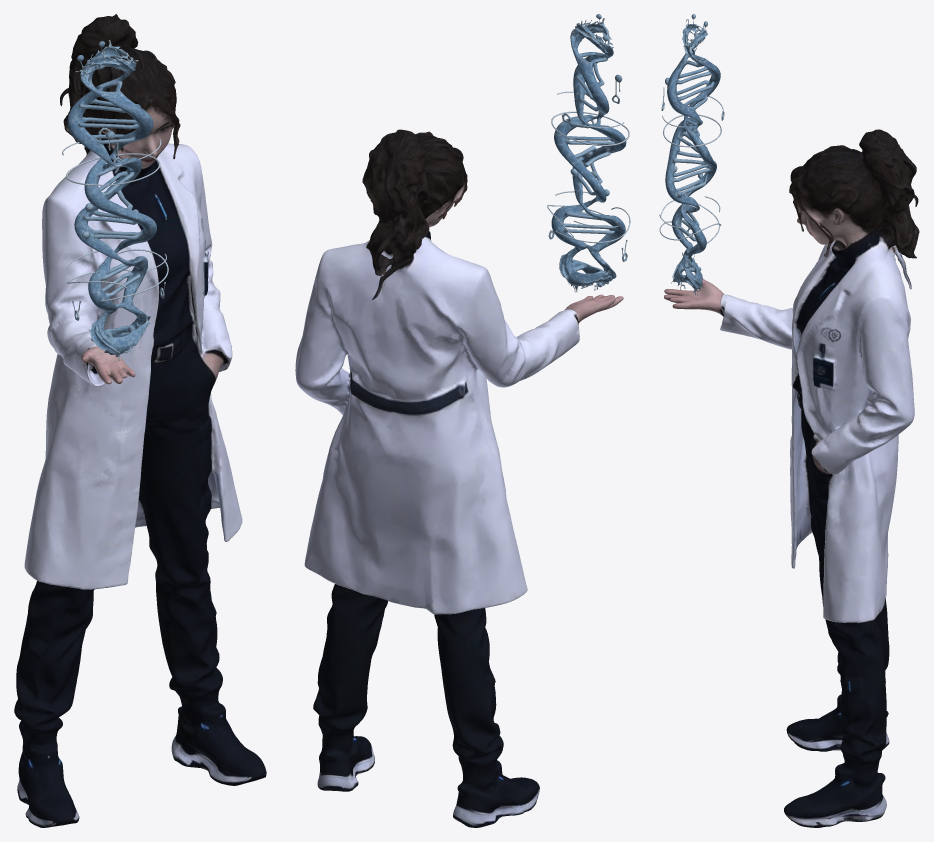
The model's file is cientifica-adn.glb.
3 renders of one model, left to right at view 1: azimuth 30°, elevation 25°; view 2: azimuth 150°, elevation 25°; view 3: azimuth 270°, elevation 25°, orthographic. The views are drawn at different scales.
Parts seen in each view (by area): view 1: Mesh_0, Mesh_0.001; view 2: Mesh_0, Mesh_0.001; view 3: Mesh_0, Mesh_0.001.
Part boxes in pixels (box(x1,y1,x2,y2)): Mesh_0: box(14, 14, 266, 827); Mesh_0.001: box(62, 40, 168, 360); Mesh_0: box(295, 129, 623, 827); Mesh_0.001: box(547, 14, 630, 292); Mesh_0: box(664, 129, 919, 827); Mesh_0.001: box(659, 14, 724, 295).
Size of the model in its own units: 0.6944 by 2.1 by 0.6887.
2 materials, 2 textured.
